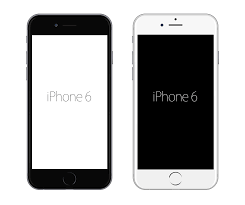iphone: (129, 11, 218, 193)
iphone6: (129, 12, 218, 194)
